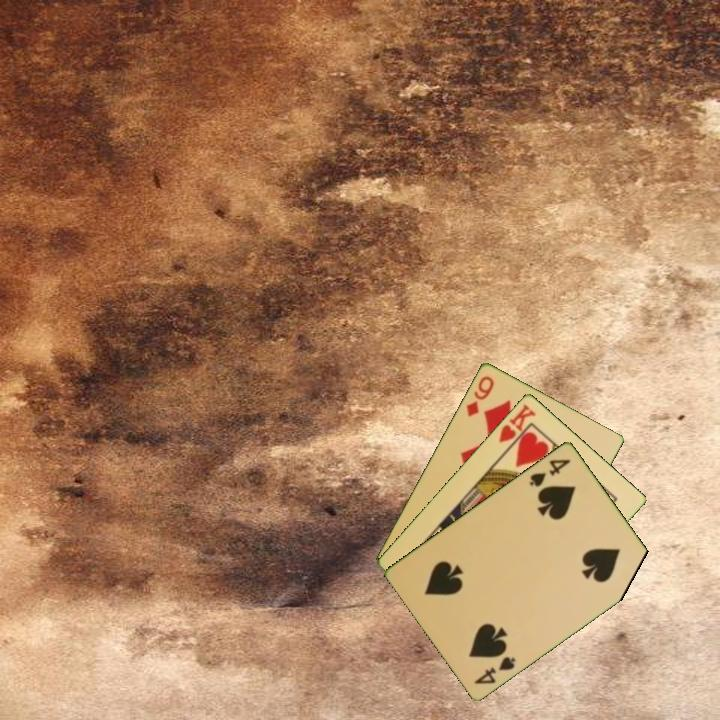4s: (471, 652, 519, 687), (526, 455, 574, 489)
9d: (462, 372, 497, 419)
Kh: (495, 400, 539, 454)
